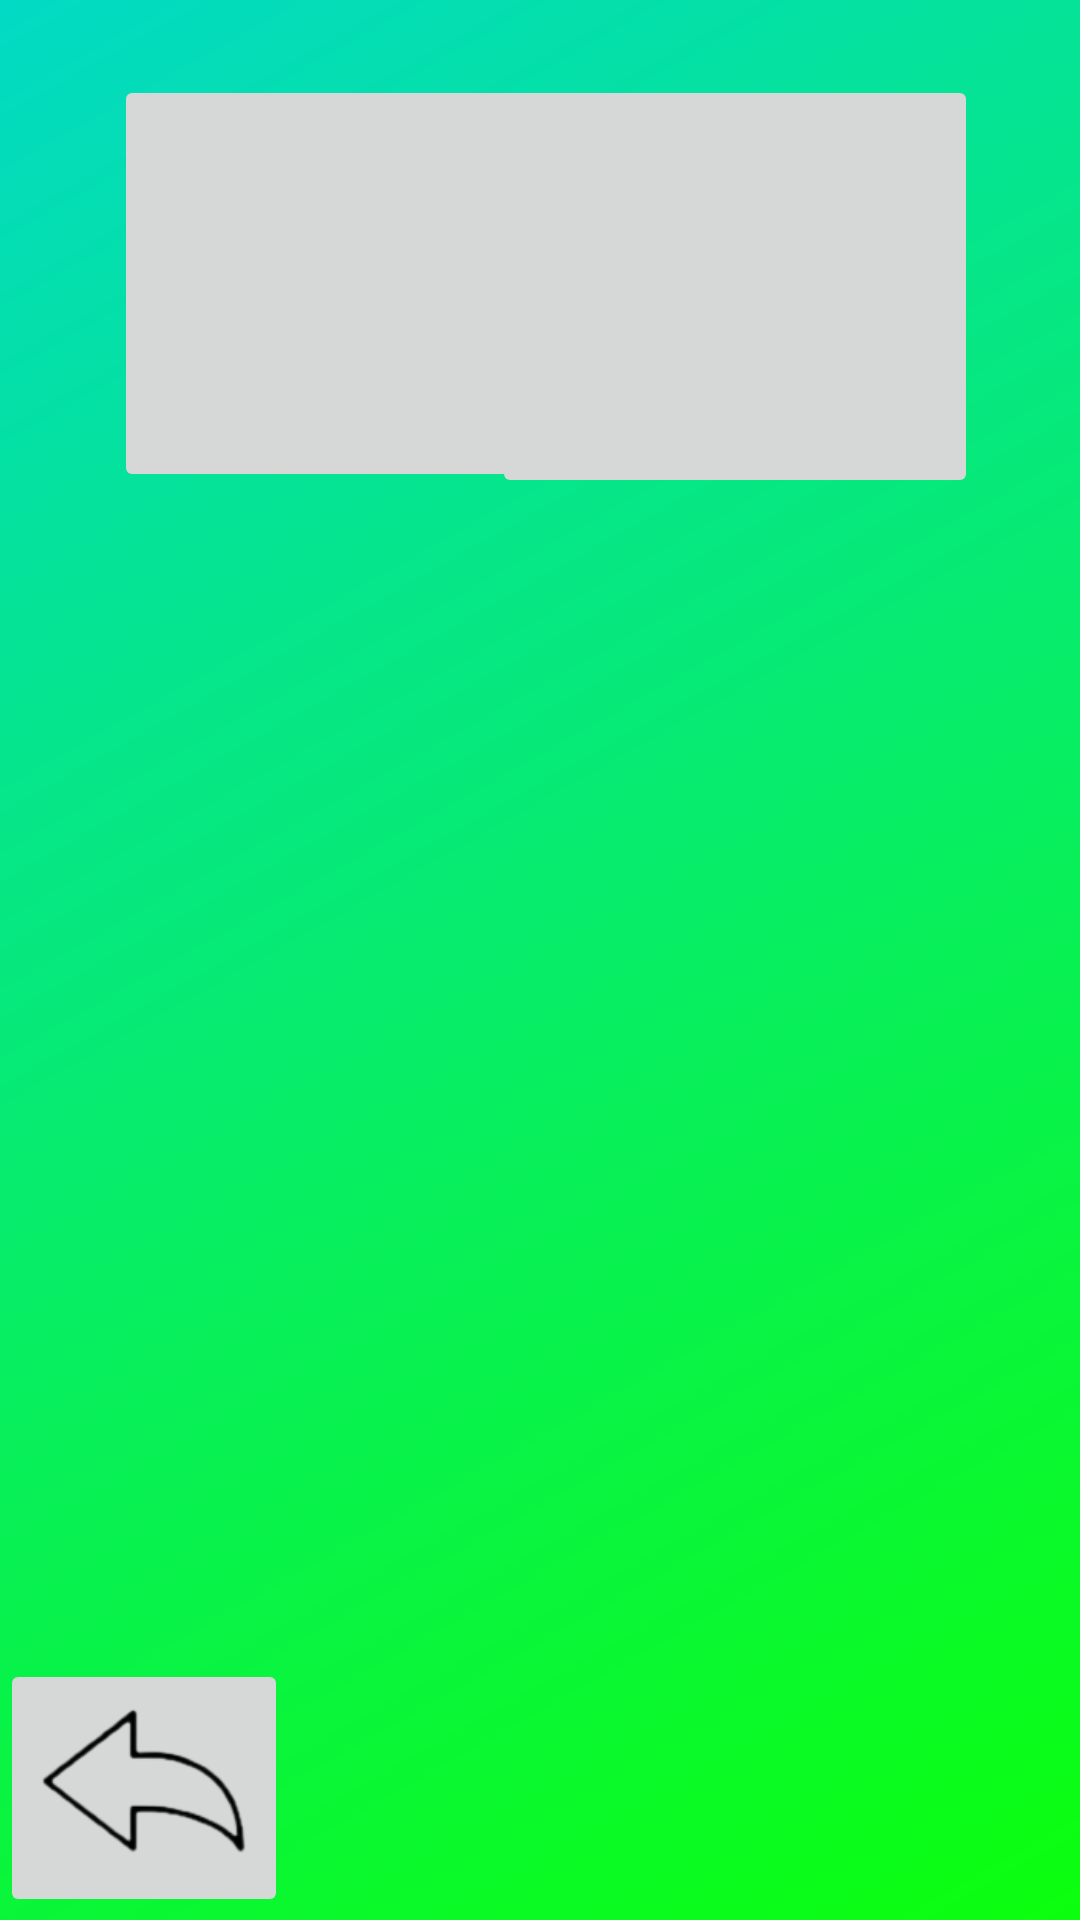

Screen size 1080px×1920px. Icon name, then its center in pixels as [x,y]:
back: [144,1788]
